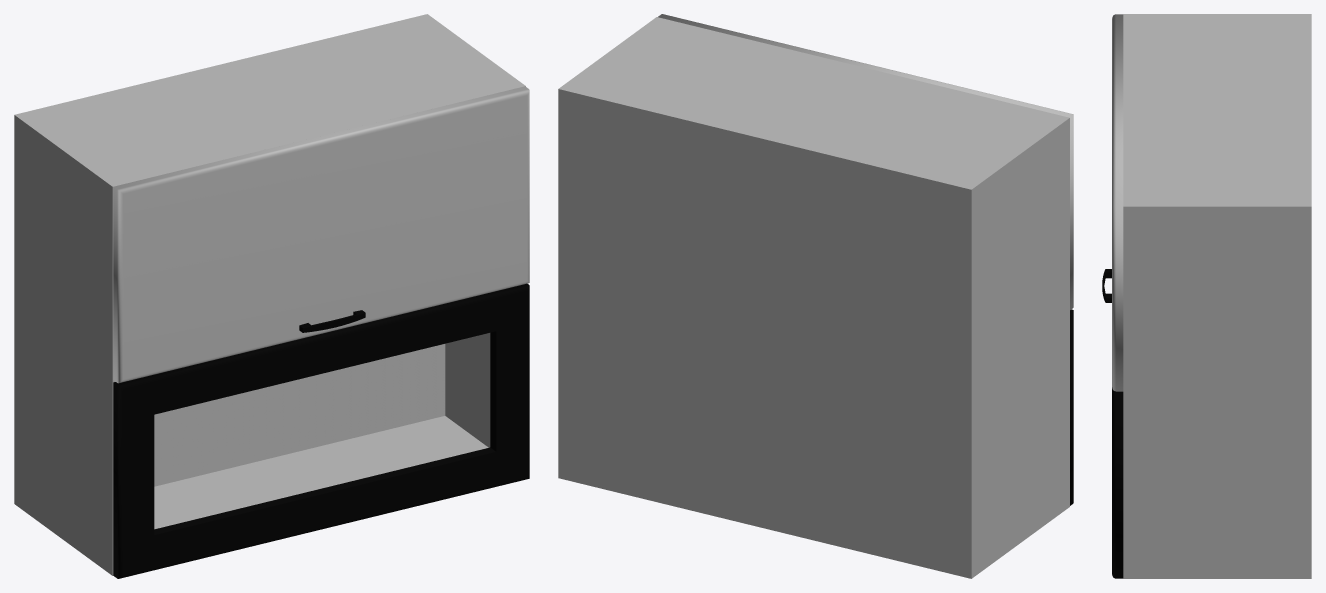
The model's file is malm80.glb.
3 views of the same model, side by side, from view 1: azimuth 30°, elevation 25°; view 2: azimuth 150°, elevation 25°; view 3: azimuth 270°, elevation 25° (orthographic). The views are drawn at different scales.
Visible parts, largest first — view 1: Box036, Box031, Box032; view 2: Box036, Box031, Box032; view 3: Box036, Box031, Box032.
Part boxes in pixels (box(x1,y1,x2,y2)): Box036: box(14, 14, 525, 575); Box031: box(113, 86, 529, 383); Box032: box(113, 283, 529, 578); Box036: box(558, 17, 1069, 578); Box031: box(658, 14, 1073, 309); Box032: box(1070, 309, 1073, 505); Box036: box(1123, 14, 1311, 578); Box031: box(1112, 14, 1123, 391); Box032: box(1112, 387, 1123, 578).
Size of the model in its own units: 0.8 by 0.72 by 0.3671.
Materials: 3 (1 with a texture image).
